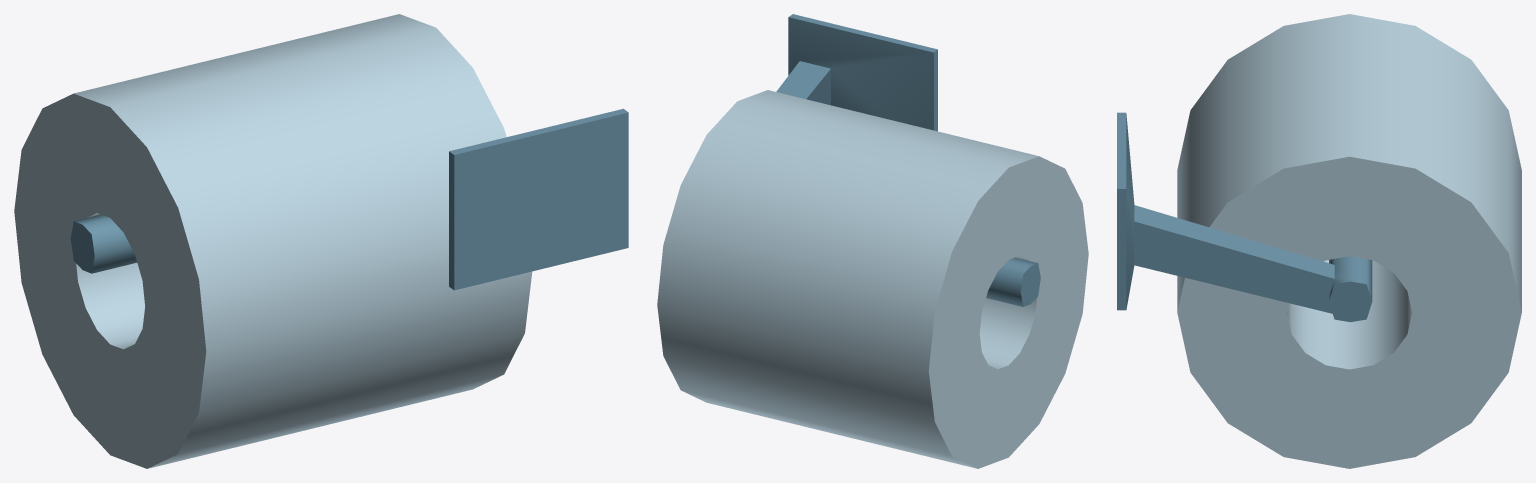
Rendered from Prop_toiletp1.FBX.
3 views of the same model, side by side, from view 1: azimuth 30°, elevation 25°; view 2: azimuth 150°, elevation 25°; view 3: azimuth 270°, elevation 25° (orthographic). The views are drawn at different scales.
Parts seen in each view (by area): view 1: Prop_bathroom1, Prop_bathroom2; view 2: Prop_bathroom1, Prop_bathroom2; view 3: Prop_bathroom1, Prop_bathroom2.
Boxes of the visible parts, x1,y1,x2,y2 form: Prop_bathroom1: (14,14,532,468); Prop_bathroom2: (70,108,628,290); Prop_bathroom1: (657,90,1088,468); Prop_bathroom2: (776,14,1040,306); Prop_bathroom1: (1177,14,1521,468); Prop_bathroom2: (1117,112,1372,322).
Size of the model in its own units: 10.19 by 9.58 by 8.16.
